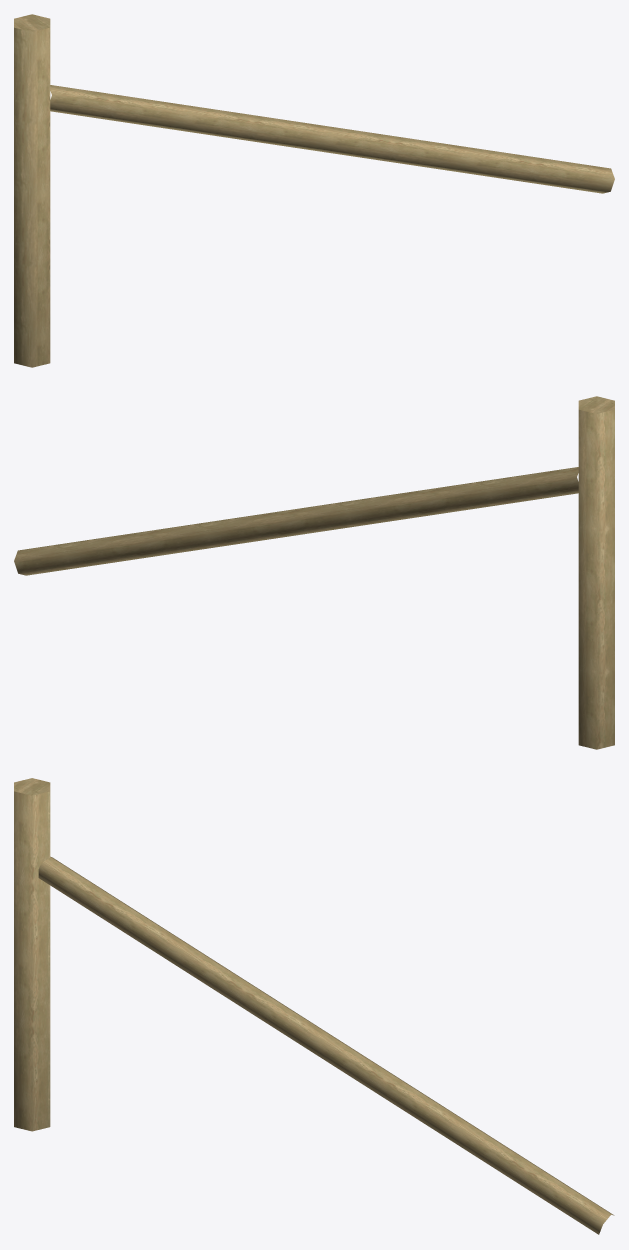
The model's file is fence-corner-wood-start-cbj_LOD02.gltf.
The picture shows the model from 3 angles, top to bottom: view 1: azimuth 30°, elevation 25°; view 2: azimuth 150°, elevation 25°; view 3: azimuth 330°, elevation 25°; orthographic projection.
Parts seen in each view (by area): view 1: fence.002; view 2: fence.002; view 3: fence.002.
Boxes of the visible parts, x1=… form: fence.002: x1=14, y1=14, x2=614, y2=367; fence.002: x1=14, y1=396, x2=614, y2=749; fence.002: x1=14, y1=778, x2=614, y2=1234.
Size of what is drawn, in the model's own units: 3.4 by 1.83 by 0.1799.
